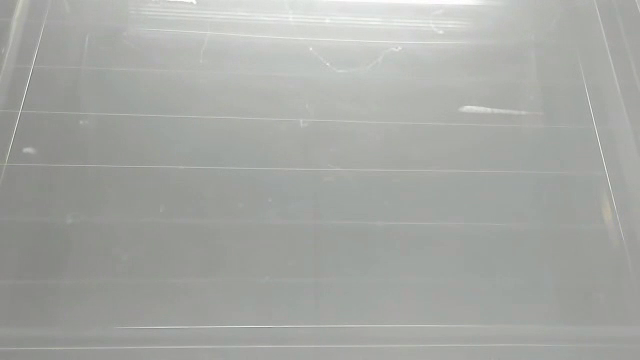alpha: (455, 100, 548, 121)
